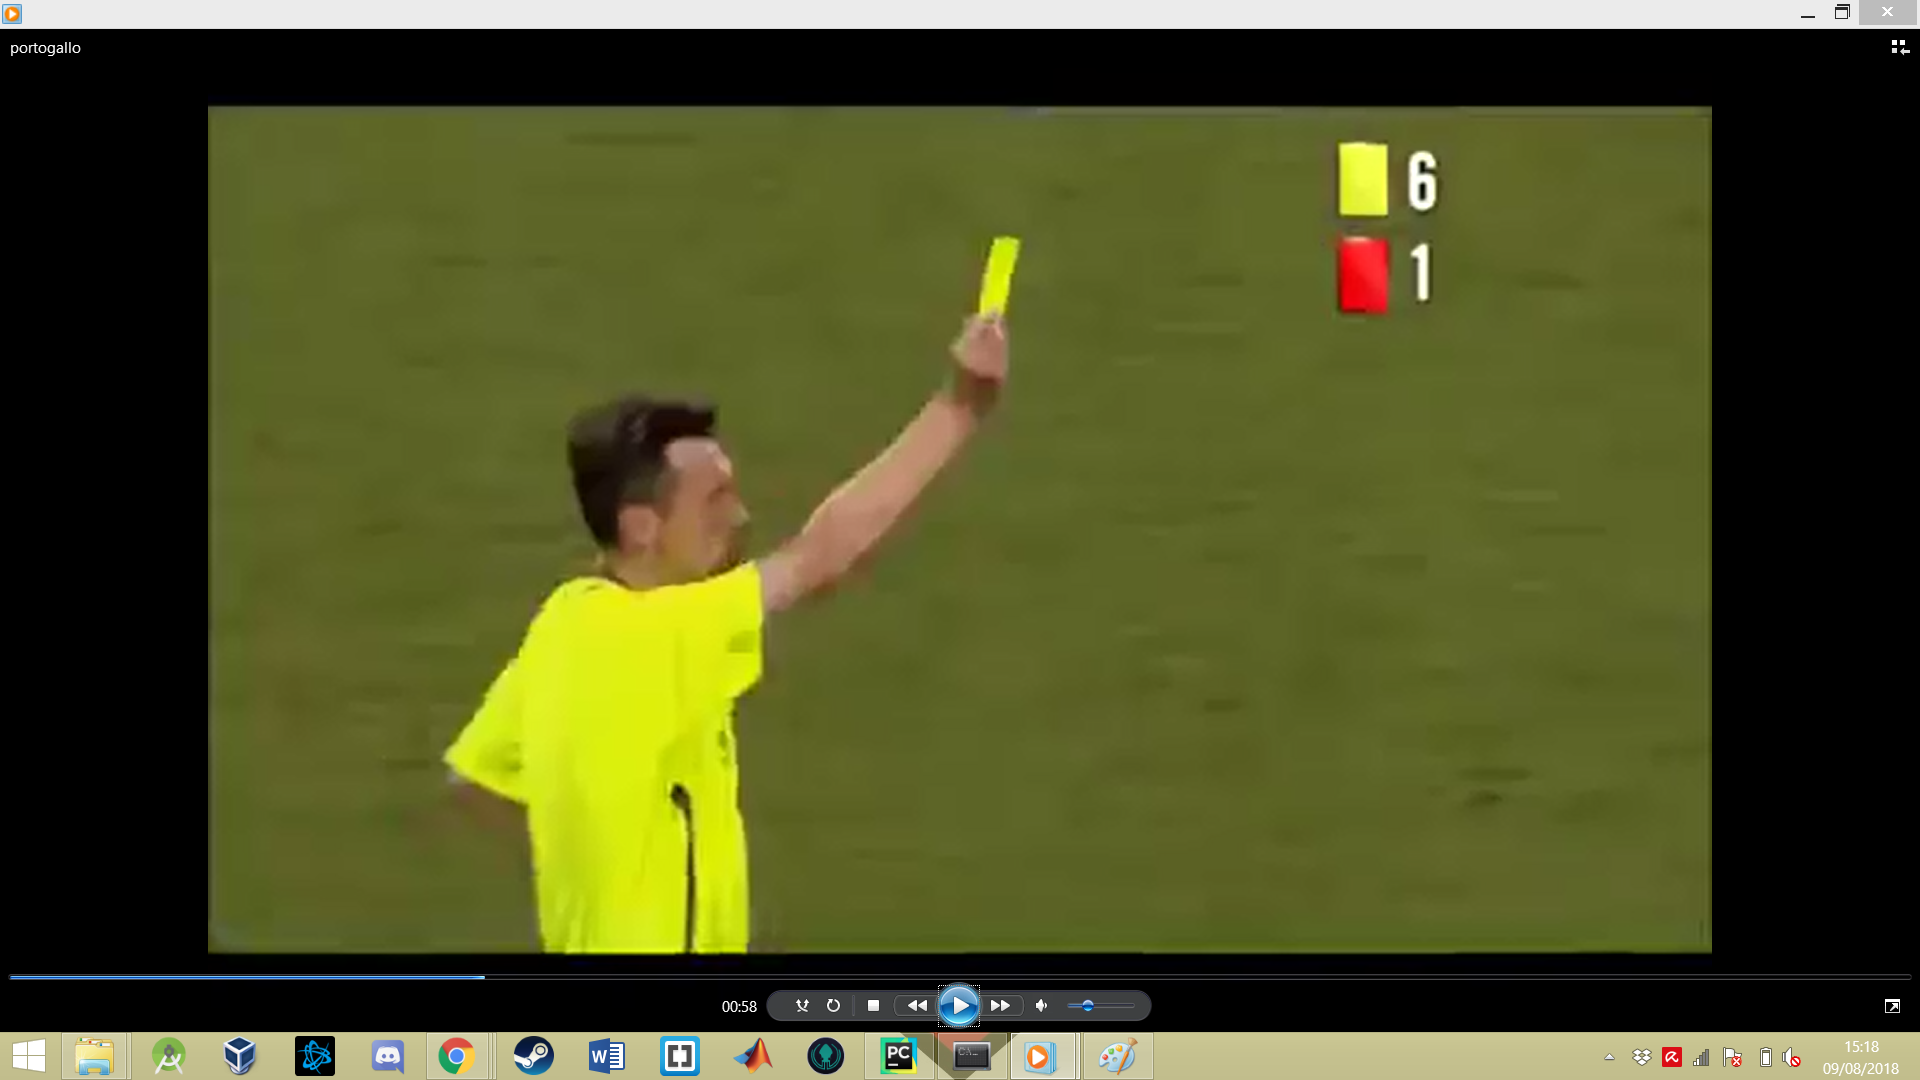yellow_card: (928, 222, 1038, 414)
